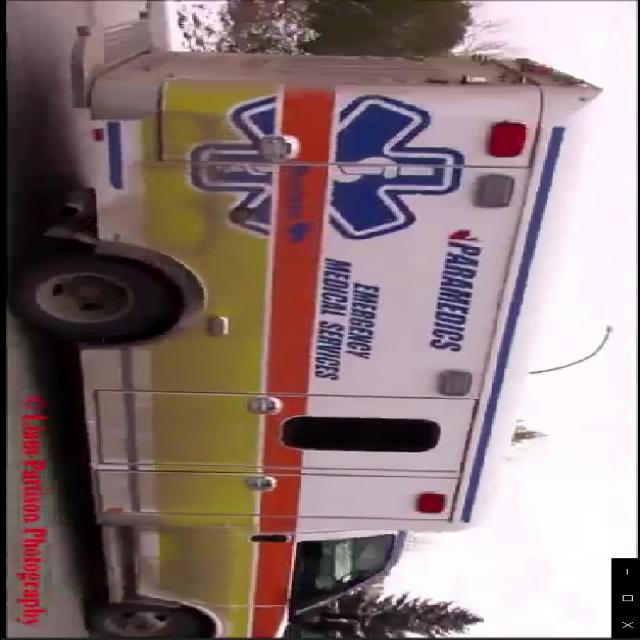emergency: (0, 12, 608, 639)
